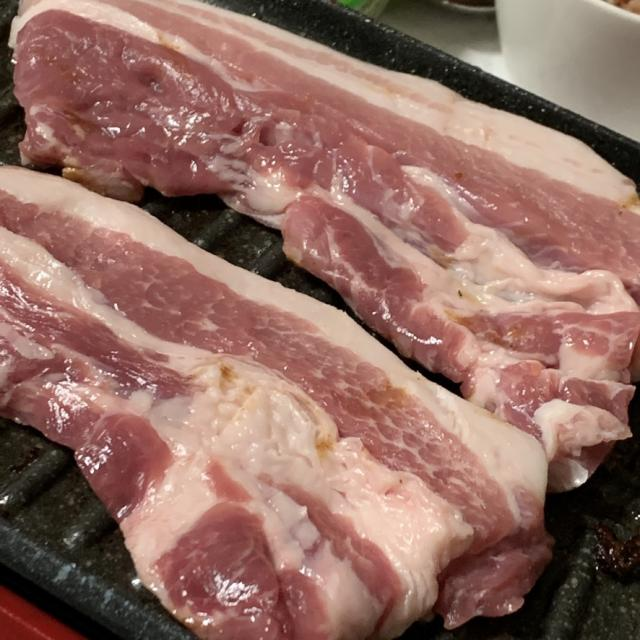pork: (6, 0, 640, 640)
